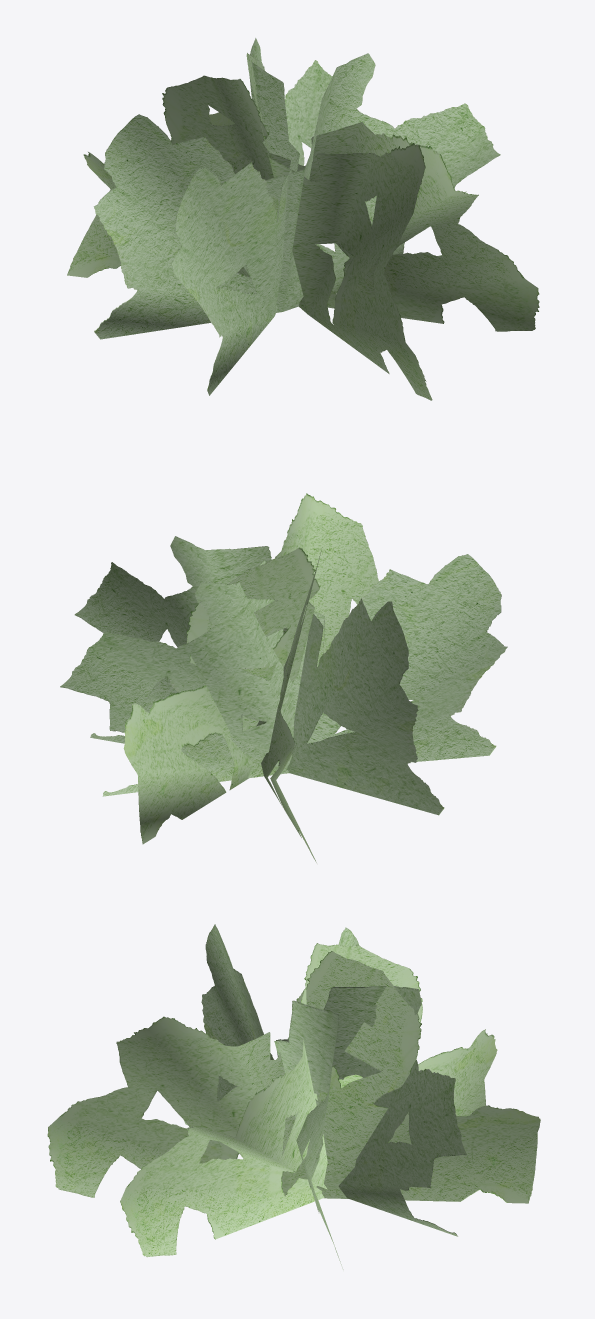
The model's file is Bush.fbx.
3 renders of one model, top to bottom at view 1: azimuth 30°, elevation 25°; view 2: azimuth 150°, elevation 25°; view 3: azimuth 270°, elevation 25°, orthographic. The views are drawn at different scales.
Visible parts, largest first — view 1: pasted__pCylinder5 (×2), pasted__pasted__pCylinder5, pCylinder5; view 2: pasted__pasted__pCylinder5, pasted__pCylinder5 (×2), pCylinder5; view 3: pCylinder5, pasted__pCylinder5 (×2), pasted__pasted__pCylinder5.
Boxes of the visible parts, bbox=[...] form: pasted__pCylinder5 (×2): bbox=[67, 53, 539, 339]; pasted__pasted__pCylinder5: bbox=[171, 38, 332, 395]; pCylinder5: bbox=[208, 53, 432, 400]; pasted__pasted__pCylinder5: bbox=[60, 554, 507, 796]; pasted__pCylinder5 (×2): bbox=[74, 536, 444, 862]; pCylinder5: bbox=[123, 493, 378, 844]; pCylinder5: bbox=[47, 951, 540, 1203]; pasted__pCylinder5 (×2): bbox=[120, 927, 497, 1269]; pasted__pasted__pCylinder5: bbox=[184, 924, 466, 1236].
Bounding box in the file's own units: 135 × 70.27 × 139.
